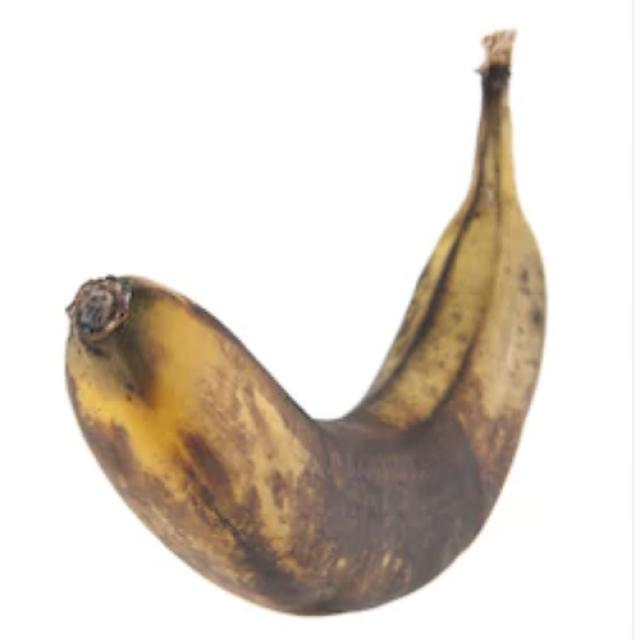rotten-banana: (61, 31, 547, 618)
